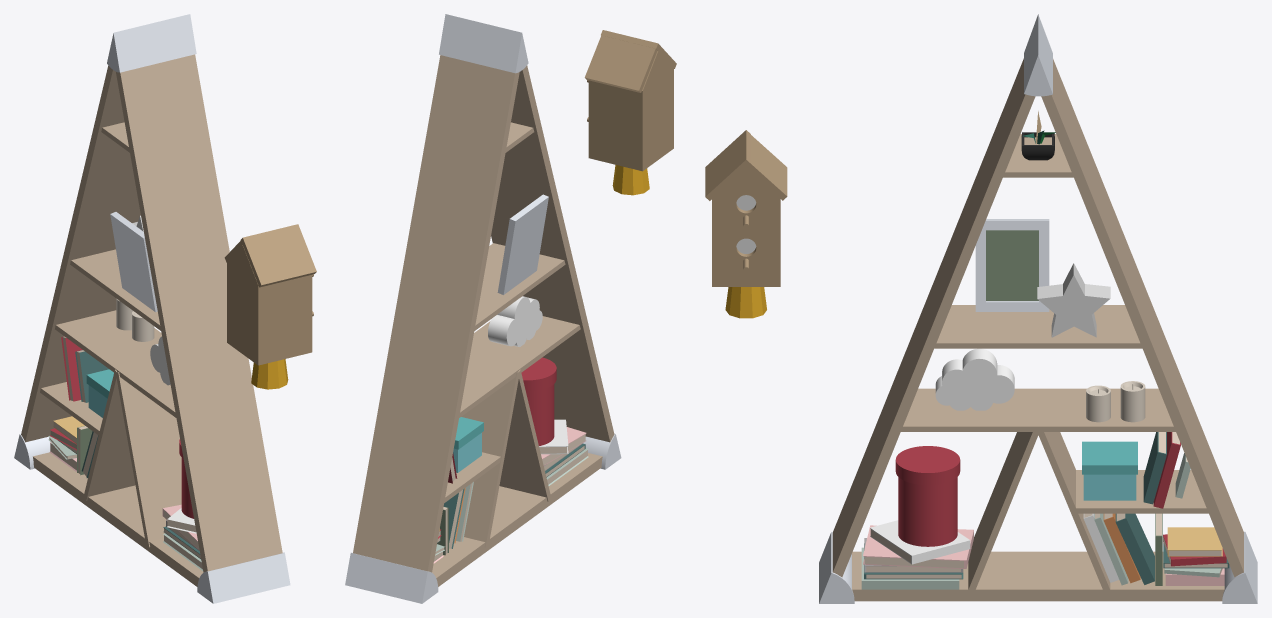
The model's file is Furn2_playzone_left_color3_joined.fbx.
3 renders of one model, left to right at view 1: azimuth 30°, elevation 25°; view 2: azimuth 150°, elevation 25°; view 3: azimuth 270°, elevation 25°, orthographic. The views are drawn at different scales.
Visible parts, largest first — view 1: Куб.088; view 2: Куб.088; view 3: Куб.088.
Boxes of the visible parts, x1,y1,x2,y2 form: Куб.088: [14, 14, 316, 603]; Куб.088: [345, 14, 676, 603]; Куб.088: [705, 14, 1257, 603].
Size of the model in its own units: 99.56 by 534 by 488.
